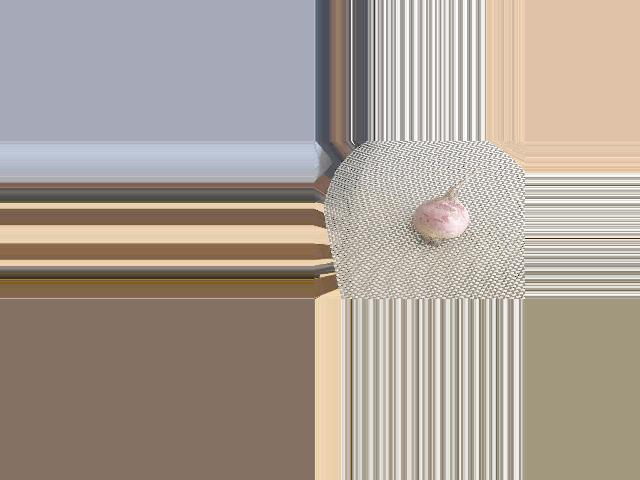beet: (411, 167, 494, 247)
